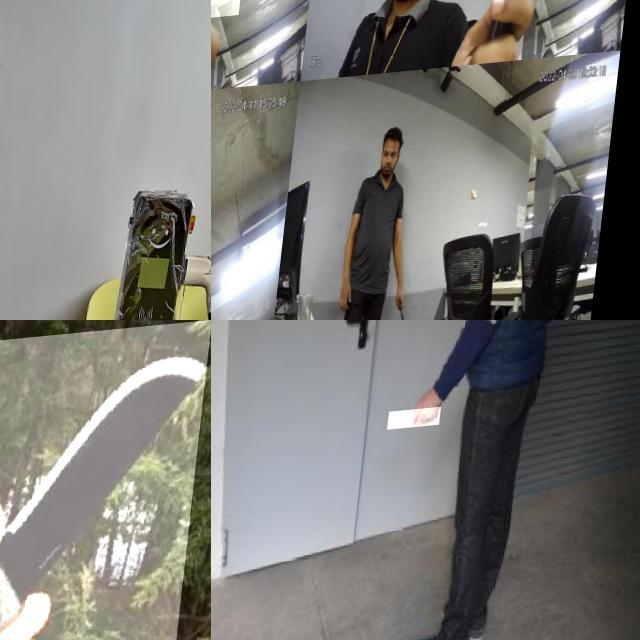-: (0, 327, 211, 640), (211, 0, 264, 116), (511, 0, 568, 107), (211, 103, 235, 320), (392, 414, 446, 436), (409, 306, 423, 320)
